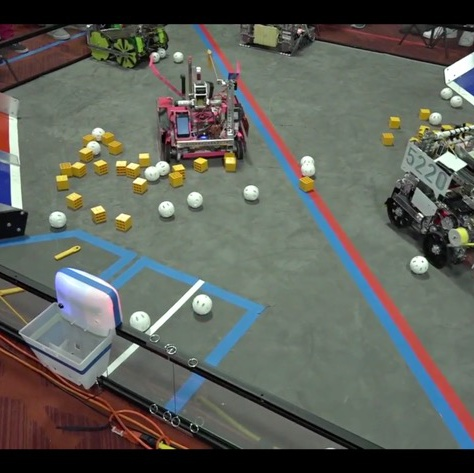robot: (382, 115, 474, 270), (153, 47, 252, 165), (85, 19, 168, 73), (237, 17, 318, 56)
